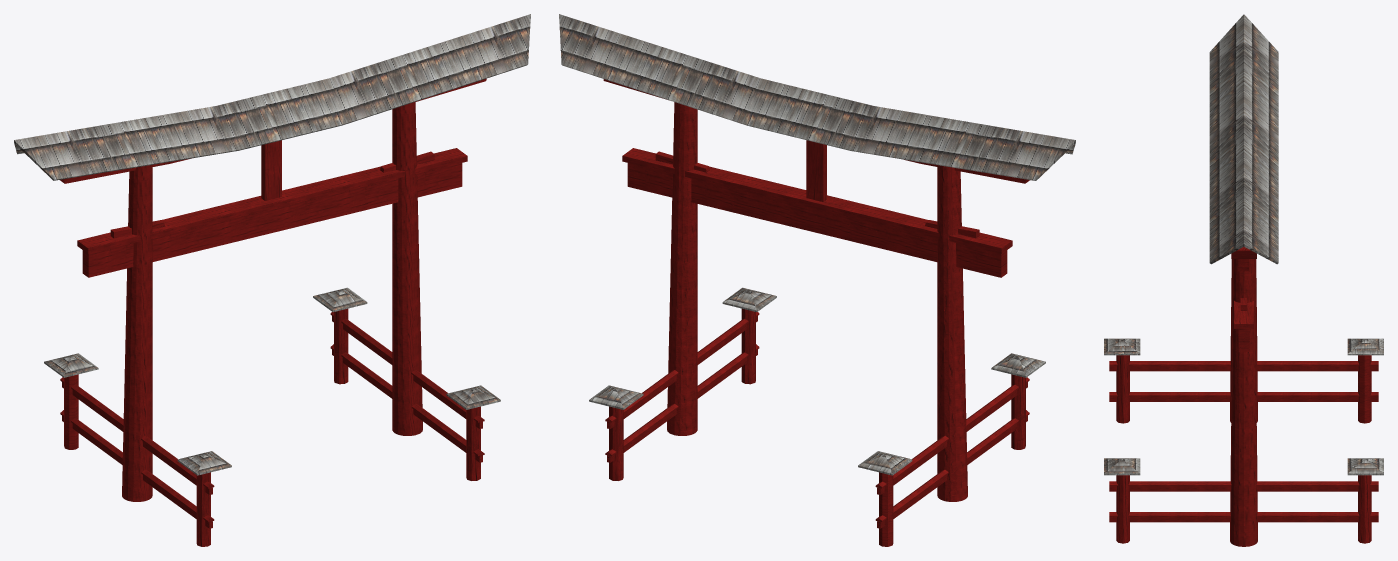
File: ToriGate02.fbx
The picture shows the model from 3 angles, left to right: view 1: azimuth 30°, elevation 25°; view 2: azimuth 150°, elevation 25°; view 3: azimuth 270°, elevation 25°; orthographic projection. The views are drawn at different scales.
Parts seen in each view (by area): view 1: Cylinder_001; view 2: Cylinder_001; view 3: Cylinder_001.
Boxes of the visible parts, left/top/right/bottom form: Cylinder_001: left=14, top=14, right=530, bottom=546; Cylinder_001: left=559, top=14, right=1075, bottom=546; Cylinder_001: left=1104, top=14, right=1383, bottom=546.
Bounding box in the file's own units: 3851 × 2745 × 1980.
